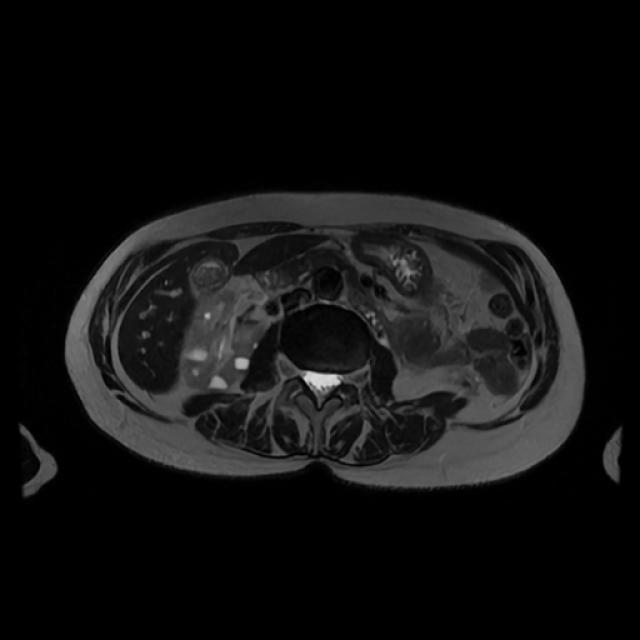sag: (179, 291, 270, 393)
sol: (448, 366, 482, 394)
